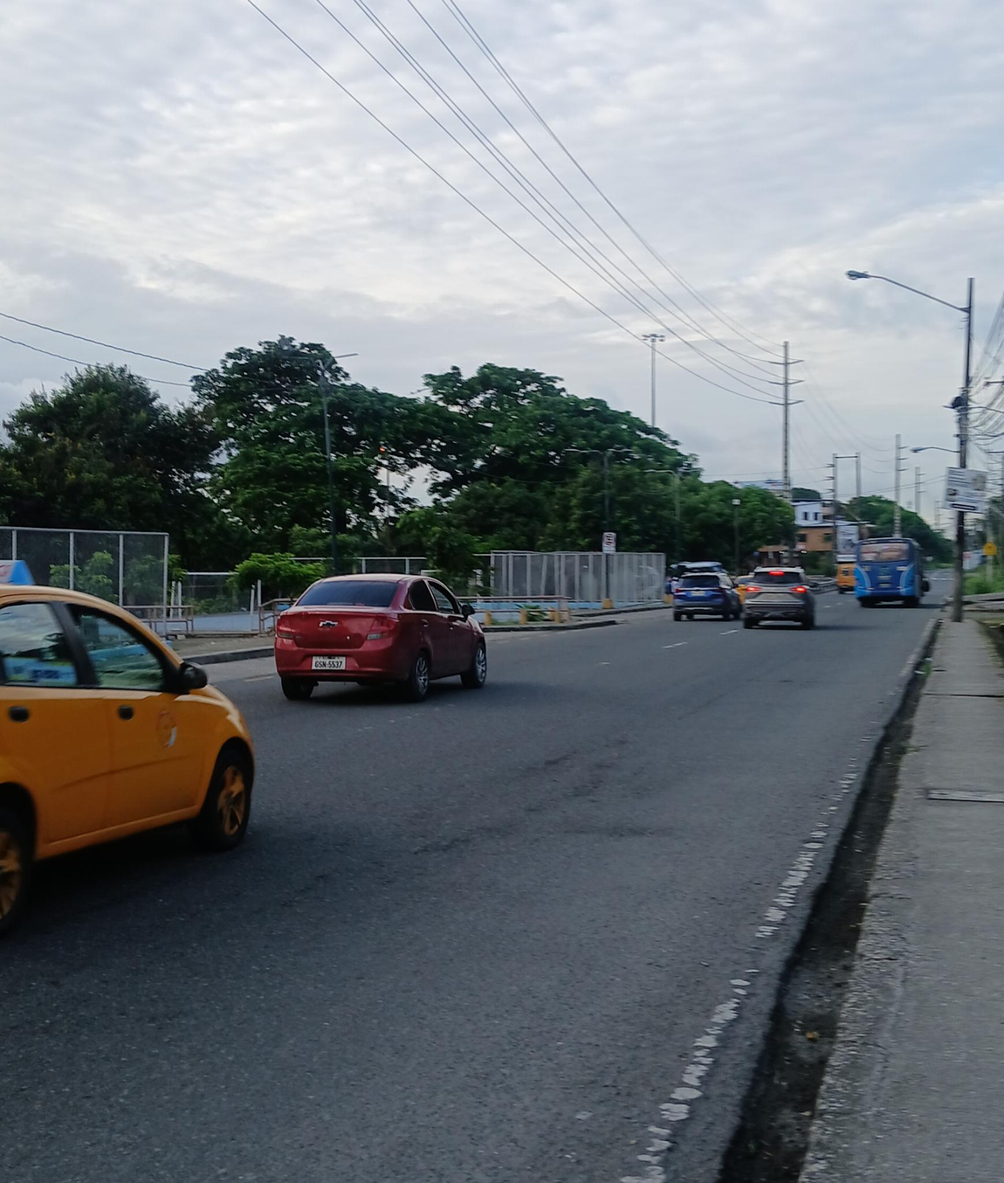license_plate: (311, 656, 346, 670), (878, 582, 893, 590), (690, 589, 705, 595)
